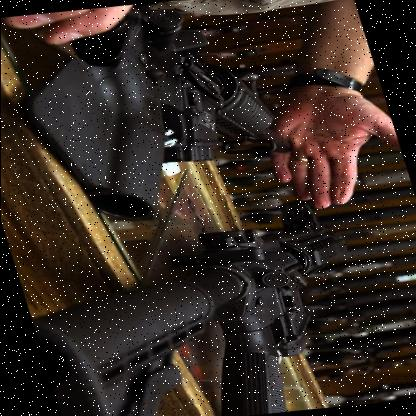rifle: (6, 203, 394, 416), (76, 0, 308, 178)
